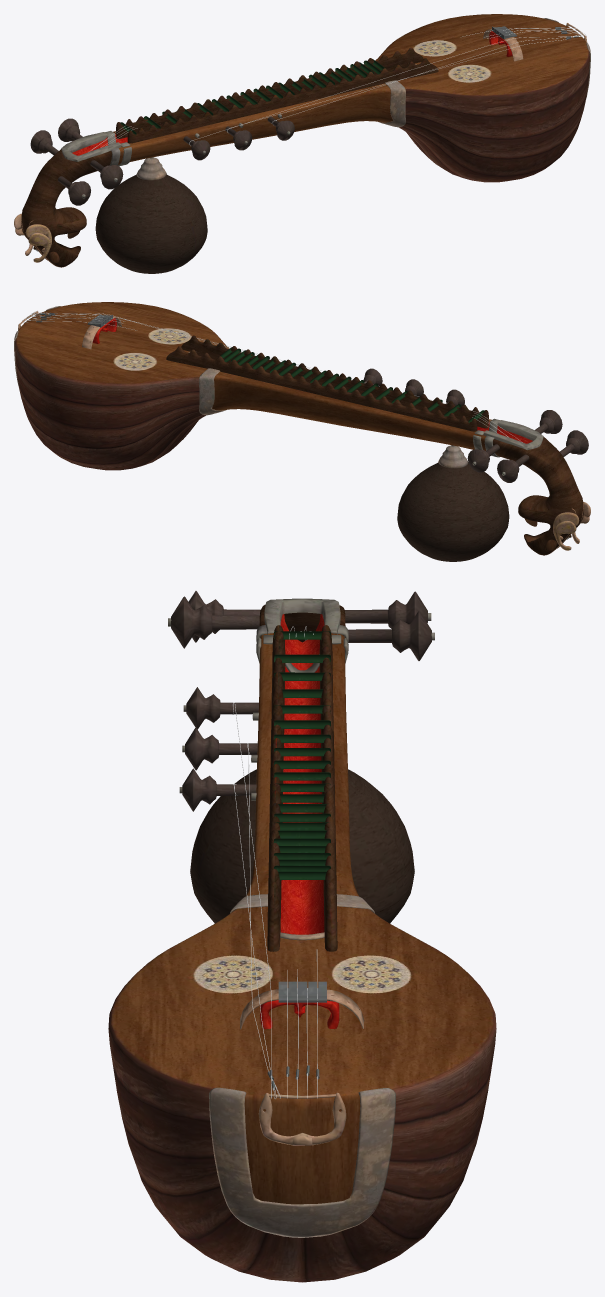
The model's file is veena.glb.
The picture shows the model from 3 angles, top to bottom: view 1: azimuth 30°, elevation 25°; view 2: azimuth 150°, elevation 25°; view 3: azimuth 270°, elevation 25°; orthographic projection. The views are drawn at different scales.
Visible parts, largest first — view 1: part0, drones, stringEnds; view 2: part0, stringEnds, drones; view 3: part0, drones.
Boxes of the visible parts, x1=… form: part0: x1=14, y1=14, x2=590, y2=273; drones: x1=189, y1=33, x2=586, y2=145; stringEnds: x1=89, y1=26, x2=582, y2=151; part0: x1=14, y1=302, x2=590, y2=561; stringEnds: x1=22, y1=314, x2=522, y2=442; drones: x1=31, y1=311, x2=446, y2=403; part0: x1=108, y1=591, x2=496, y2=1282; drones: x1=232, y1=702, x2=280, y2=1099.
Bounding box in the file's own units: 38.52 × 9.99 × 11.57.
Materials: 2 (1 with a texture image).
